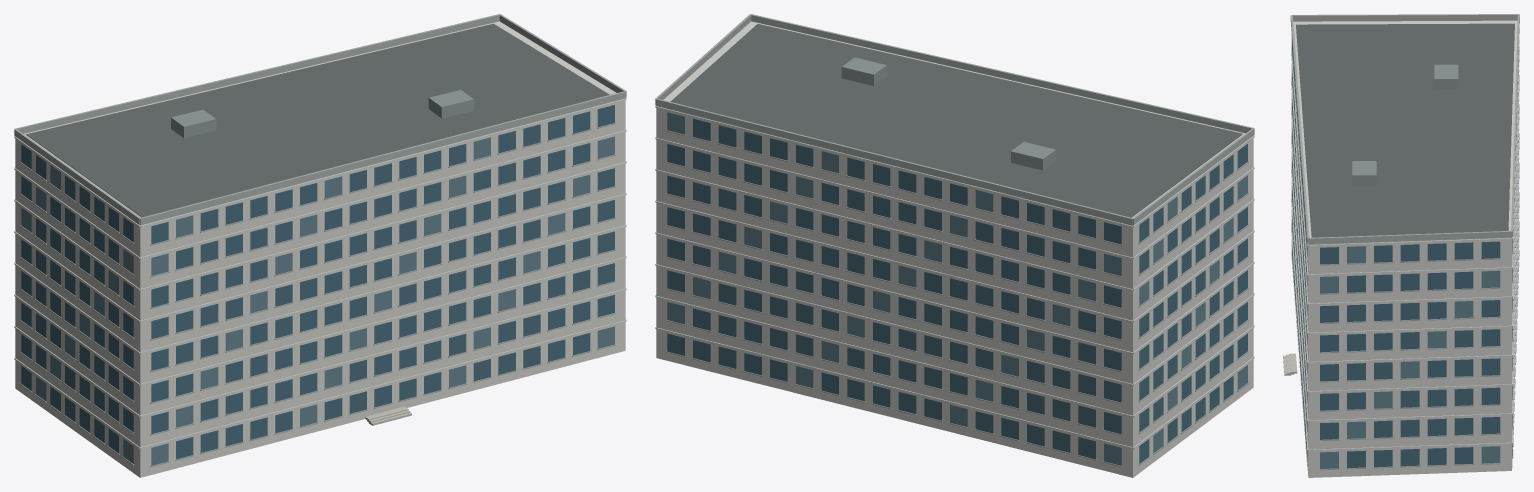
The model's file is 东侧办公园区-025.glb.
The picture shows the model from 3 angles, left to right: view 1: azimuth 30°, elevation 25°; view 2: azimuth 150°, elevation 25°; view 3: azimuth 270°, elevation 25°; orthographic projection. The views are drawn at different scales.
Visible parts, largest first — view 1: 东侧办公园区-025; view 2: 东侧办公园区-025; view 3: 东侧办公园区-025.
Boxes of the visible parts, <box> form: 东侧办公园区-025: <box>14,14,626,477</box>; 东侧办公园区-025: <box>655,14,1254,477</box>; 东侧办公园区-025: <box>1283,14,1519,477</box>.
Size of the model in its own units: 61.82 by 31.42 by 27.54.
